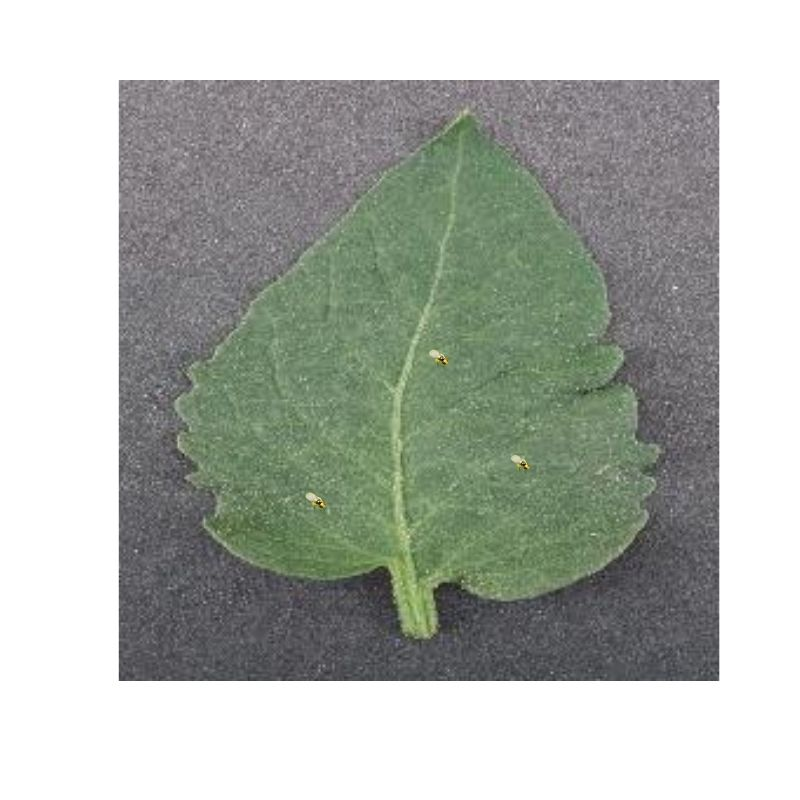liriomyza: (426, 347, 449, 367), (303, 491, 327, 509), (511, 452, 531, 472)
